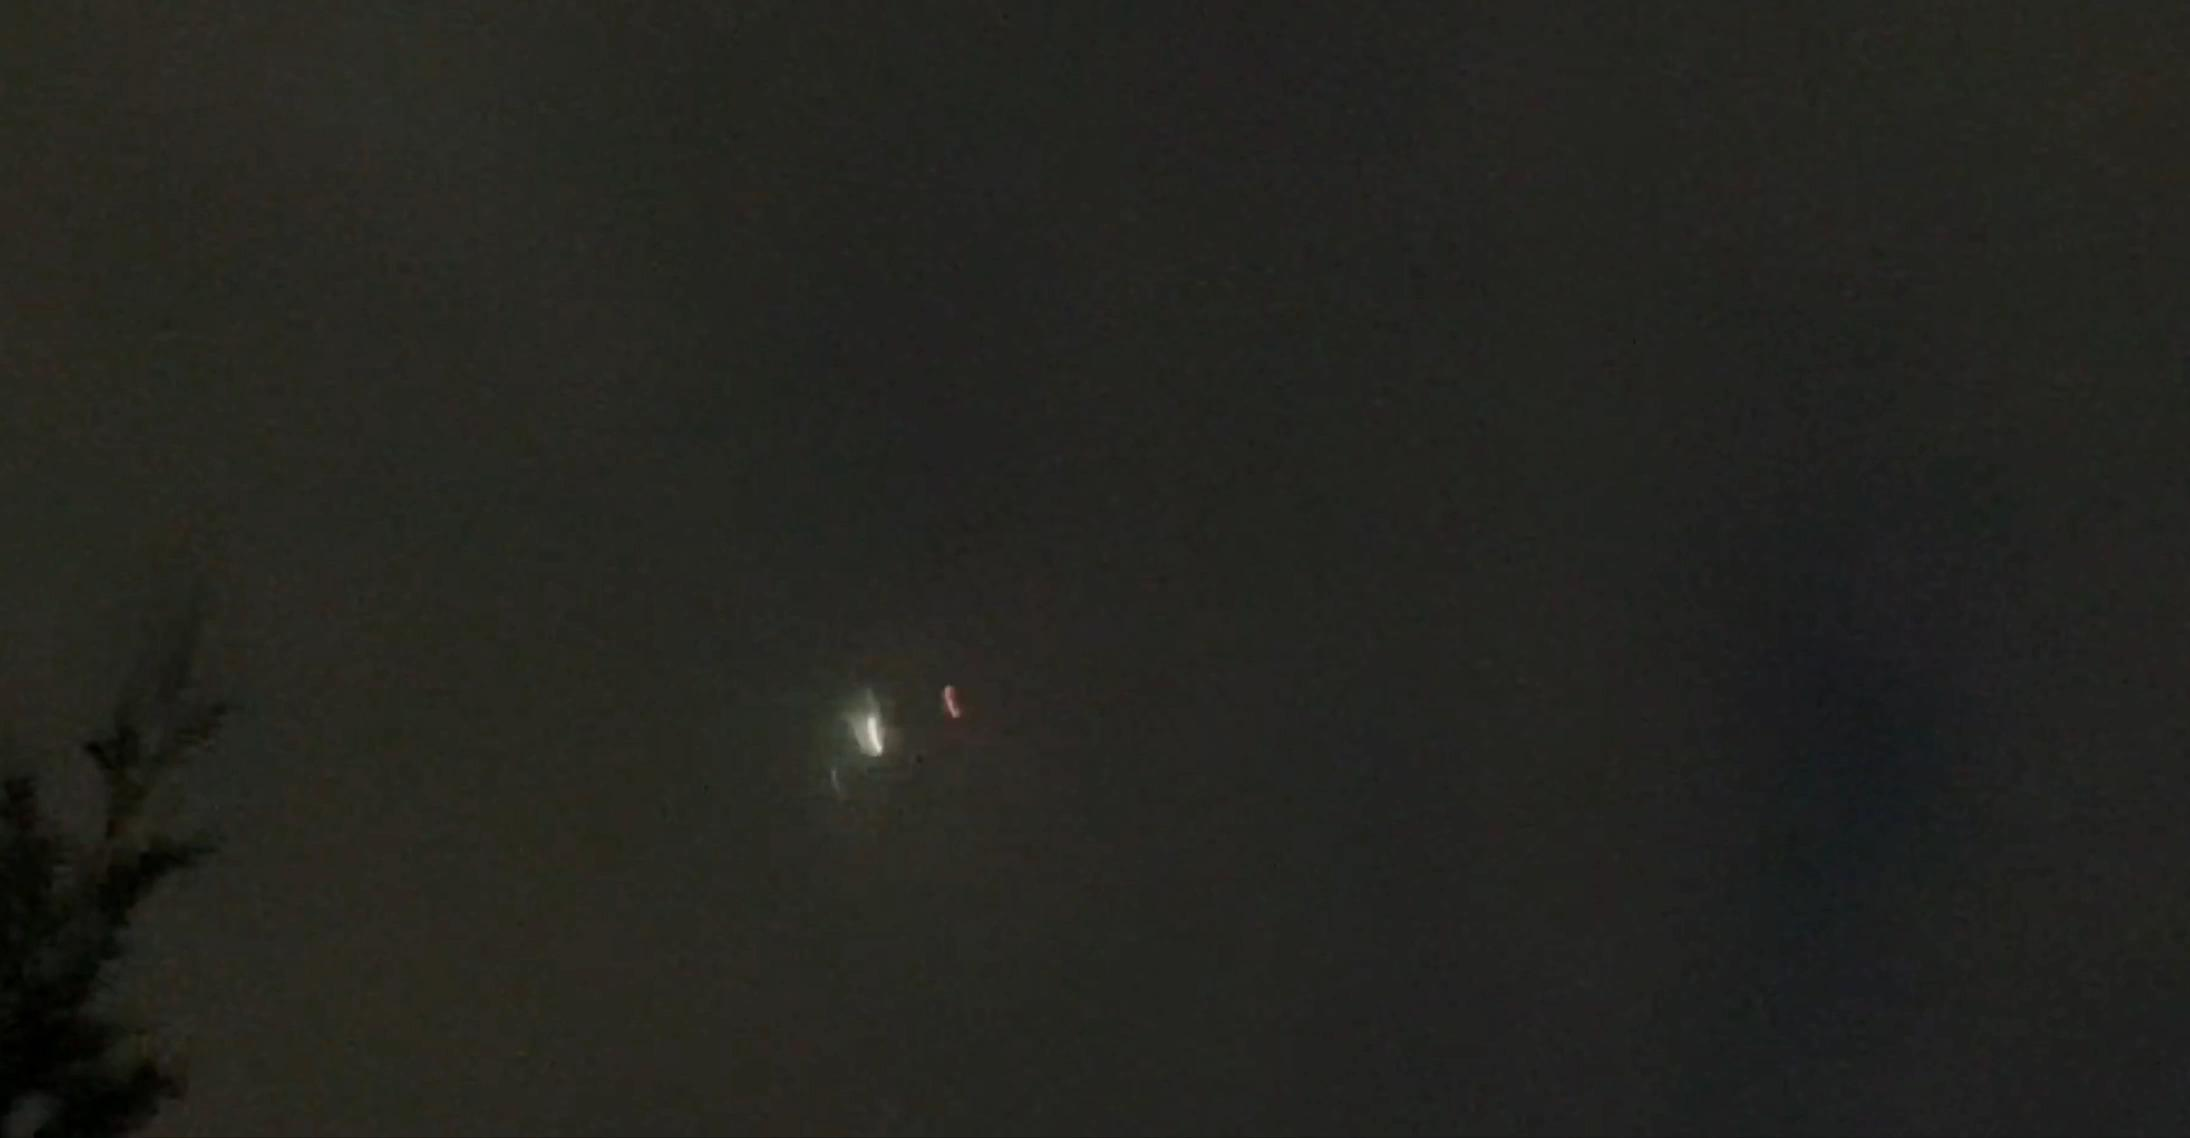Plane: (805, 644, 1017, 818)
